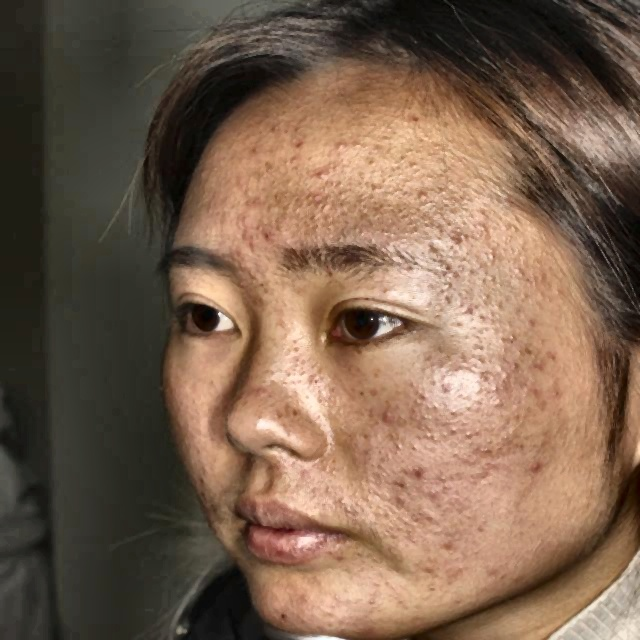pustule: (528, 456, 552, 478), (402, 461, 426, 482), (374, 407, 394, 427), (331, 136, 352, 153), (295, 590, 313, 608), (316, 167, 328, 184)
